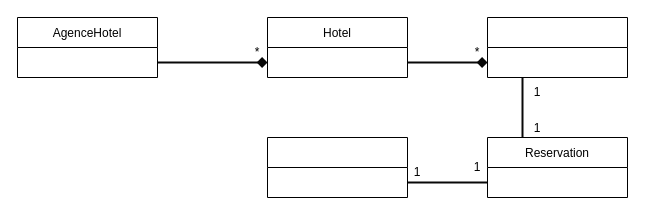
The diagram is 645 pixels wide and 215 high, and some of its shapes have lost their labels. Each missing label, with the centre of its shape:
Chambres: the point at 557,47
Client: the point at 337,167
